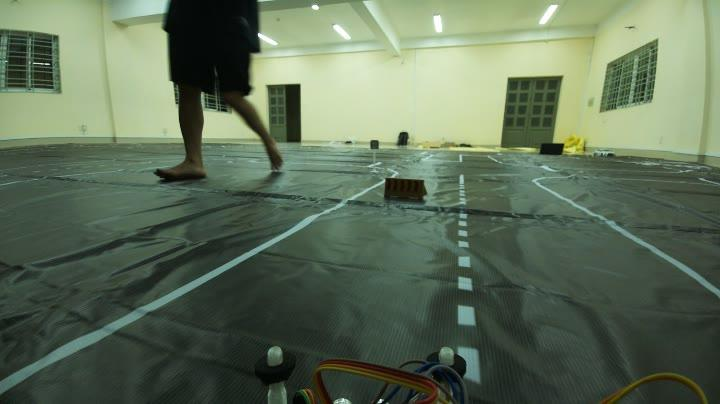roadblock: (378, 173, 434, 202)
